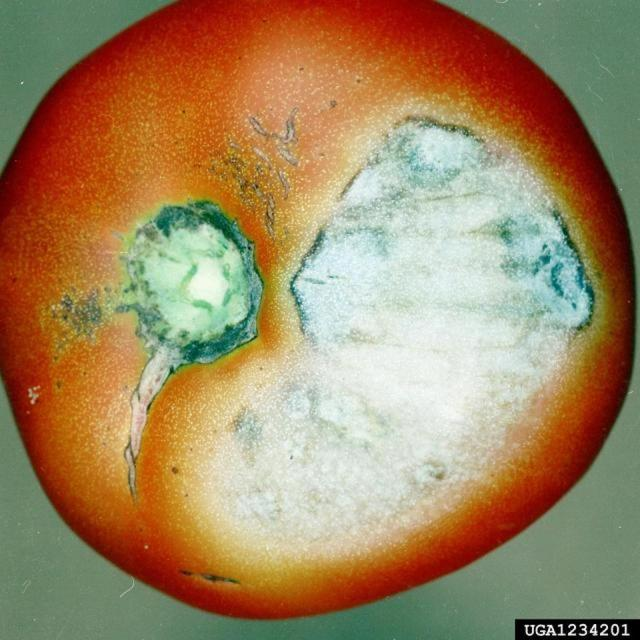Sunscald Fruit: (164, 49, 402, 388)
